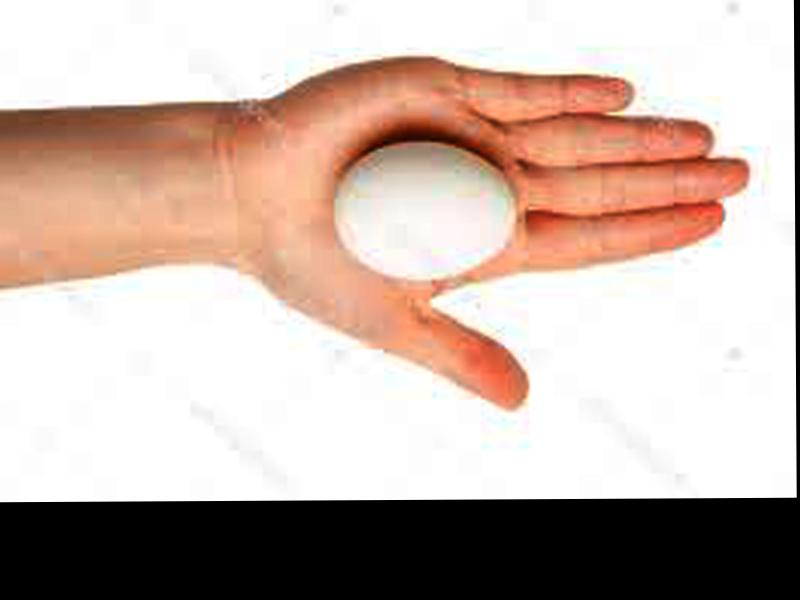Eggs: (334, 146, 517, 276)
